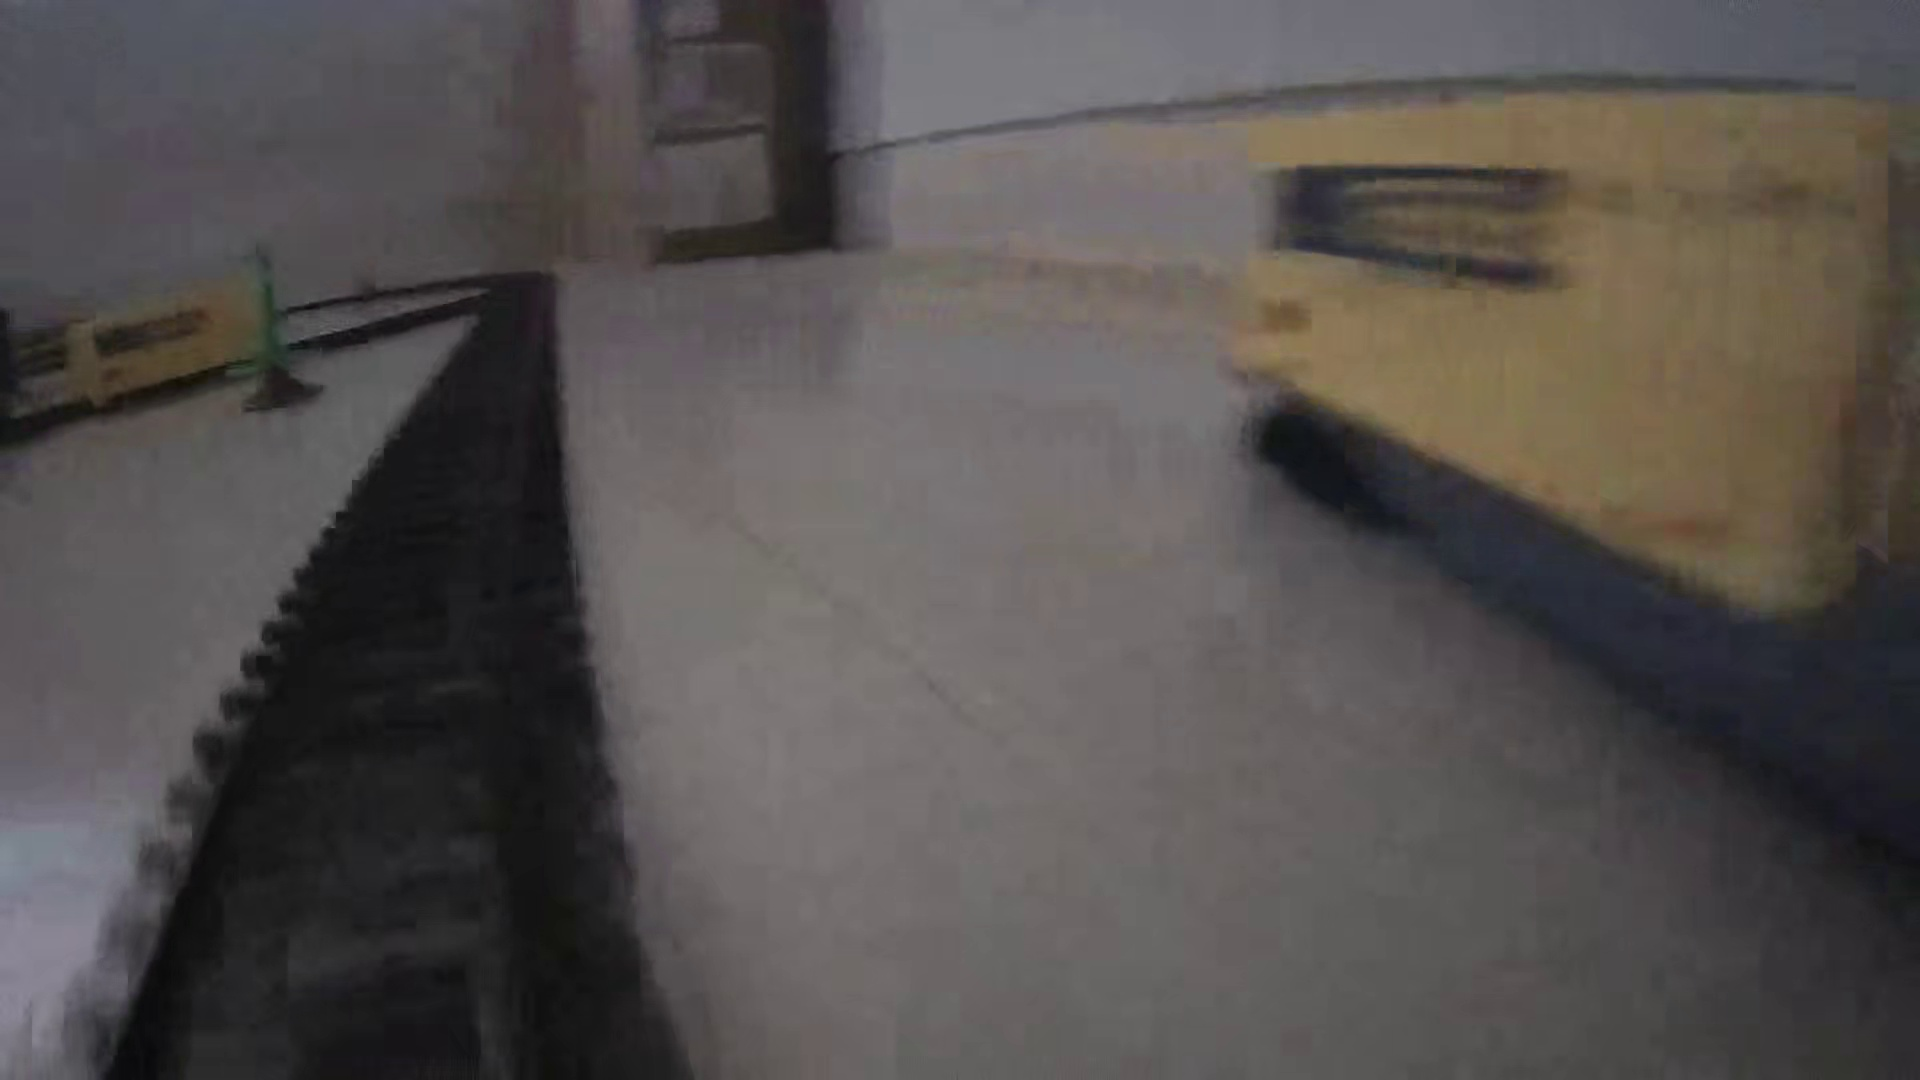tree: (217, 233, 329, 418)
